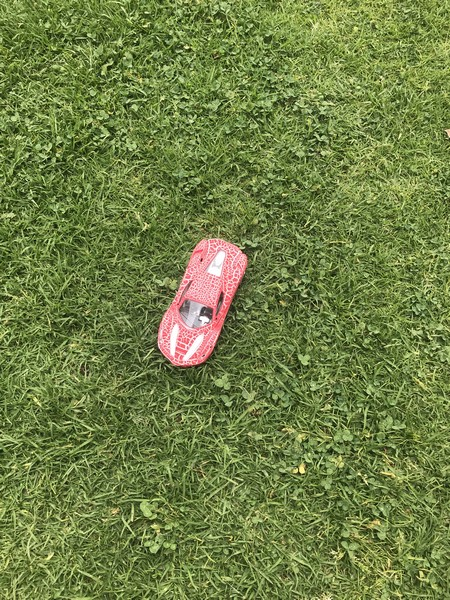RC: (155, 237, 249, 372)
